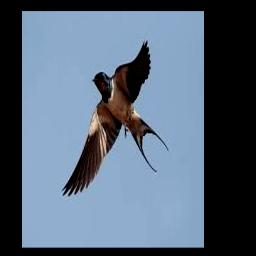Swallow: (60, 40, 169, 195)
